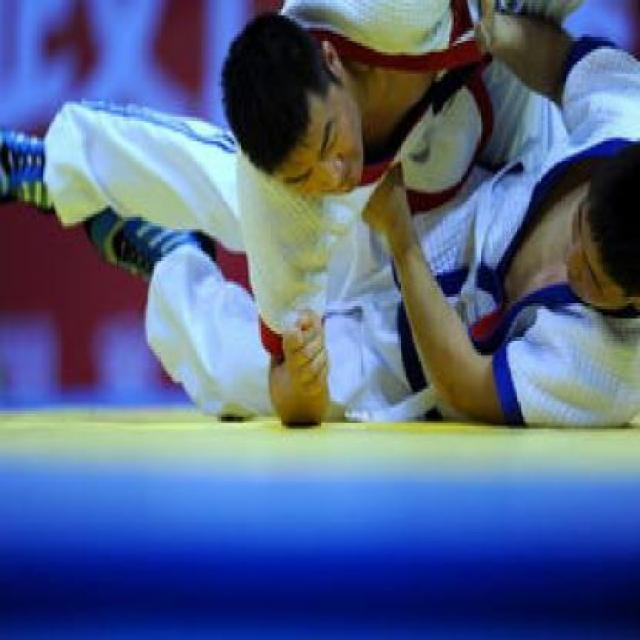fall: (193, 4, 638, 428)
